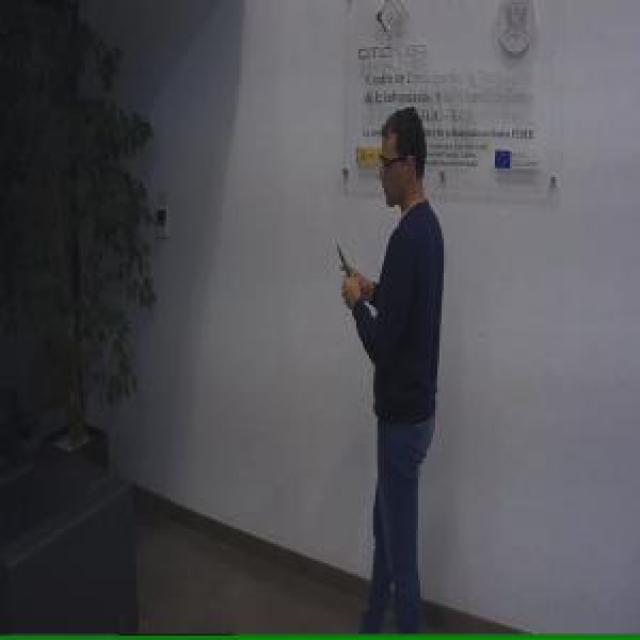knife: (333, 237, 356, 286)
